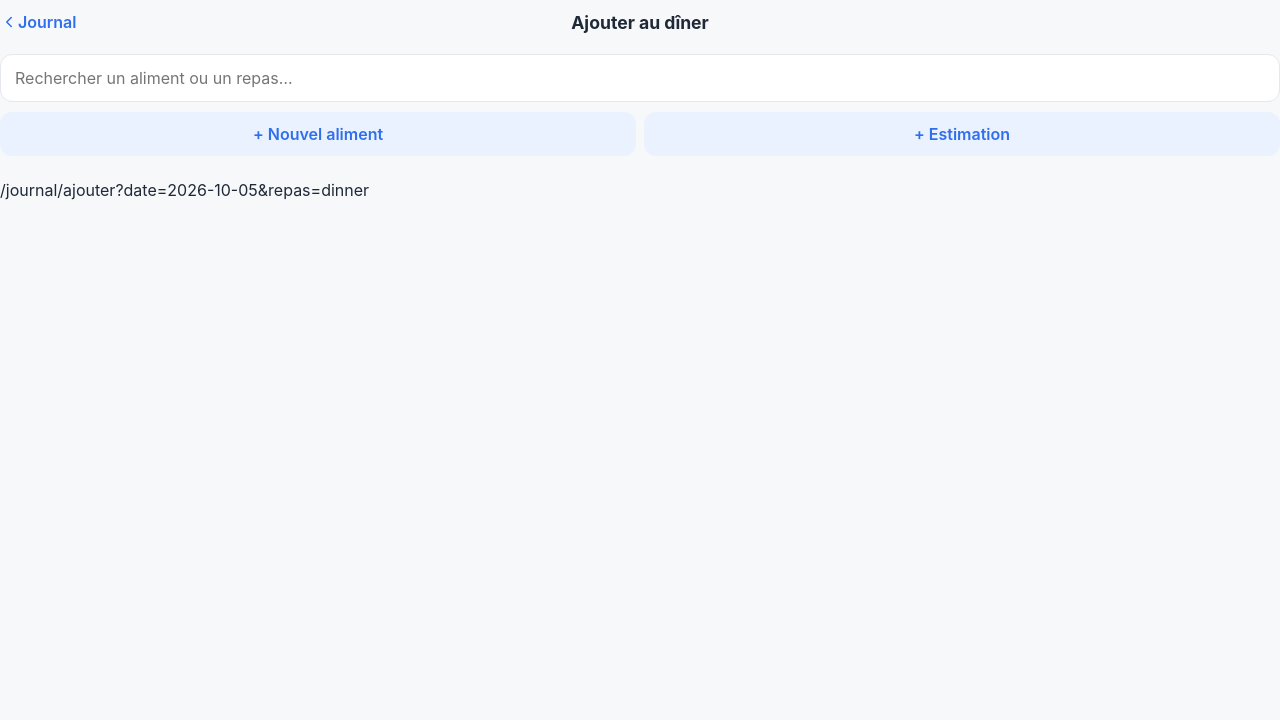
Scenario: écran Ajouter › + Estimation : le formulaire de la 3A.2, ligne du repas, retour au Journal
Click the button "+ Estimation" at x=962, y=134, box [644, 112, 1279, 156]
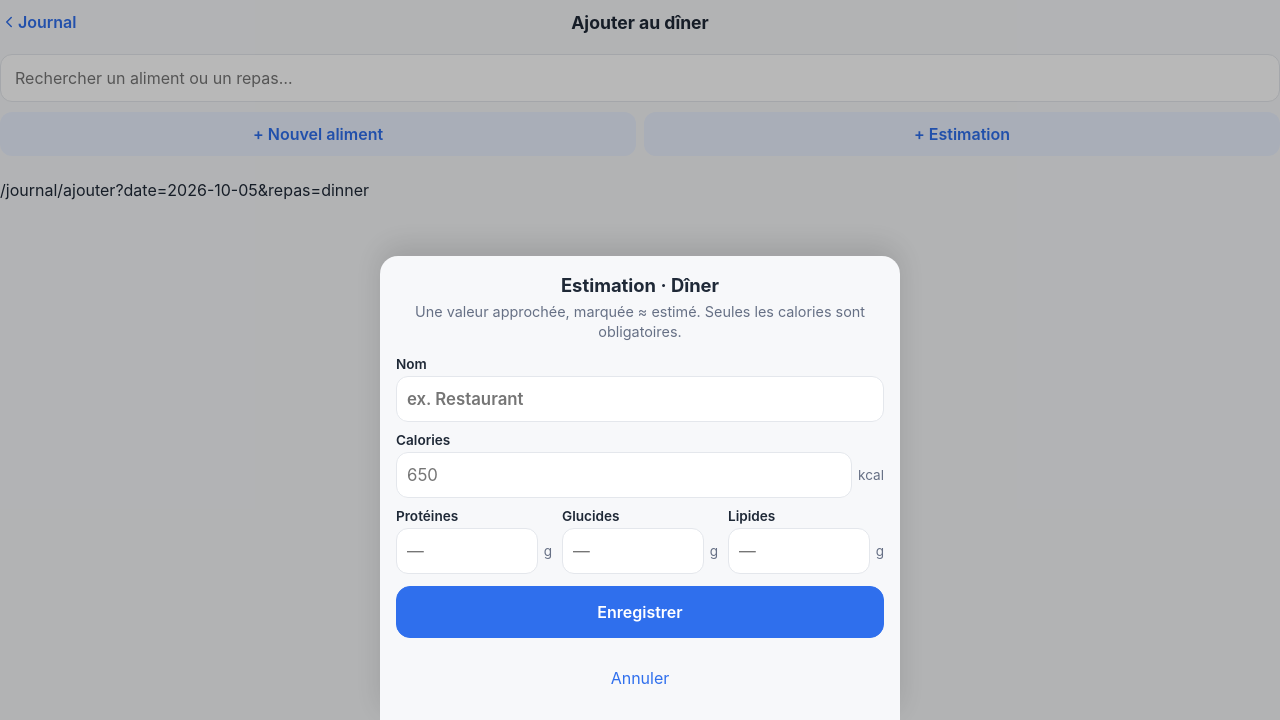
Check: the heading "Estimation · Dîner" is shown, box [561, 274, 719, 296]
Type "700" into the field named "Calories en kcal" at x=624, y=475, box [396, 452, 852, 498]
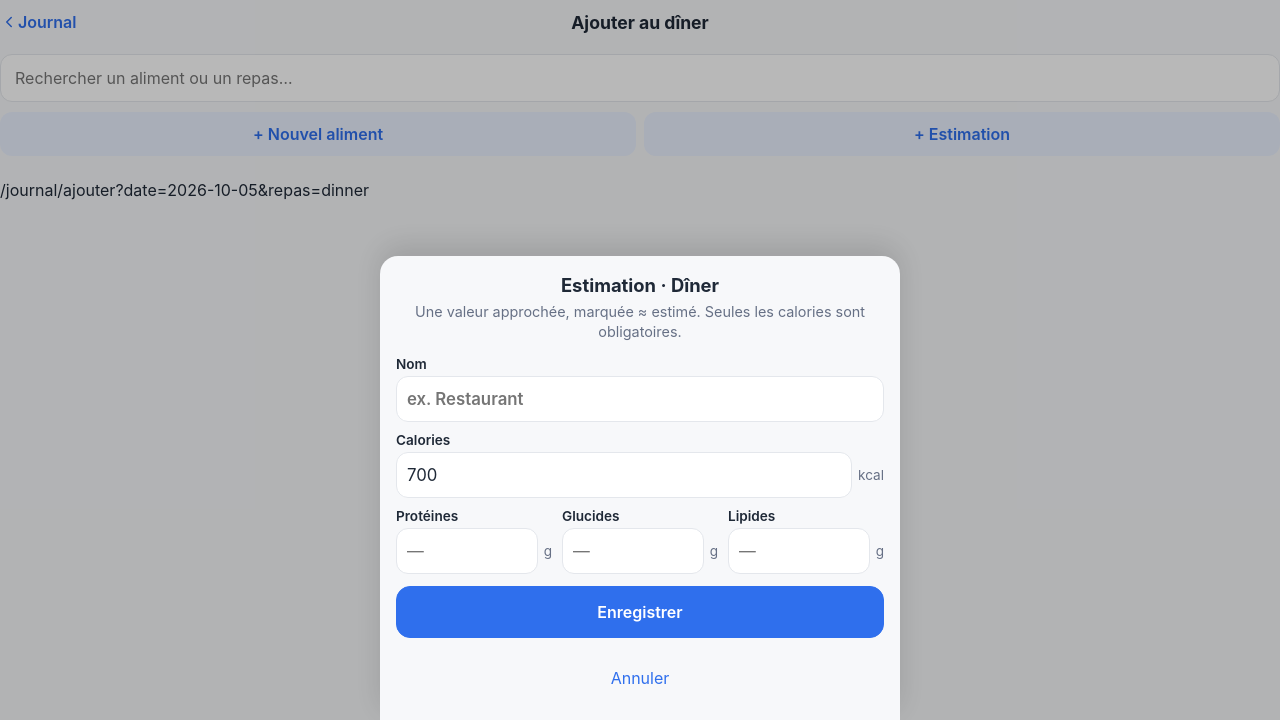
Click the button "Enregistrer" at x=640, y=612, box [396, 586, 884, 638]
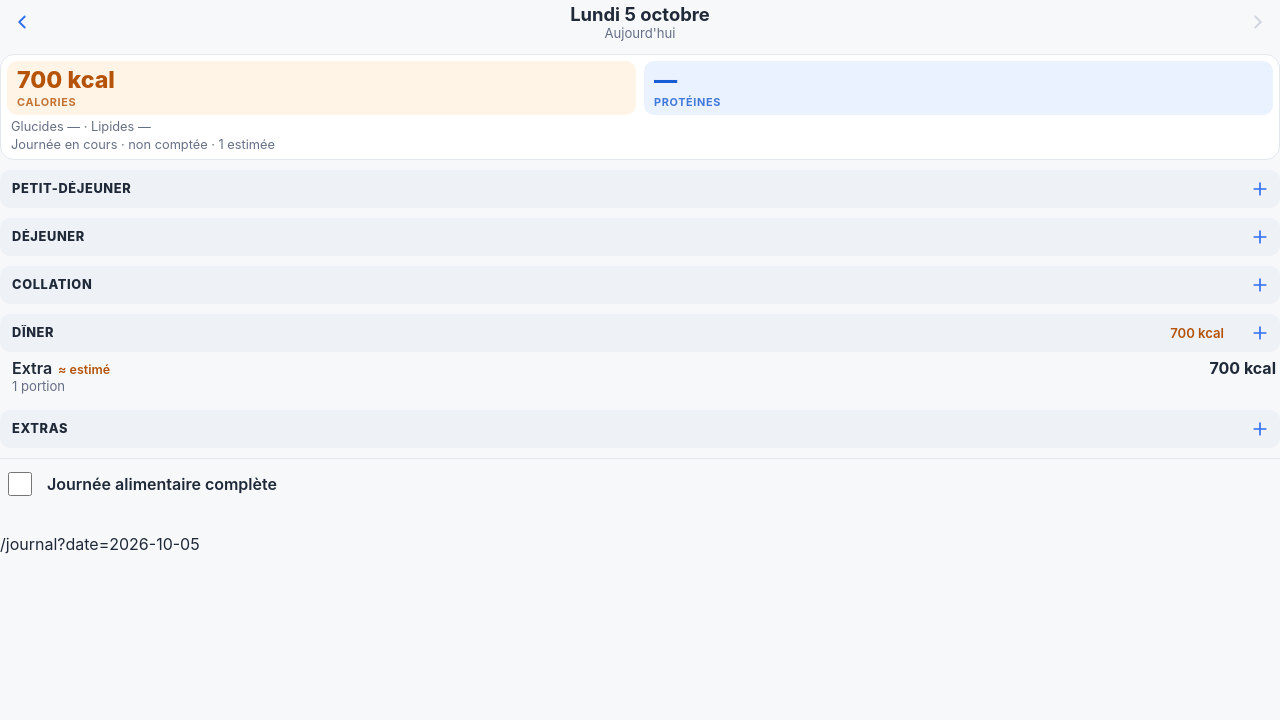
Check: the text with test id "url" reads "/journal?date=2026-10-05", box [0, 534, 200, 554]
